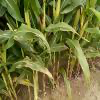Corn leaf blight: (60, 37, 91, 89), (3, 27, 52, 58), (8, 58, 53, 82), (0, 29, 36, 54), (44, 21, 91, 39), (38, 42, 69, 58), (59, 68, 72, 99)
